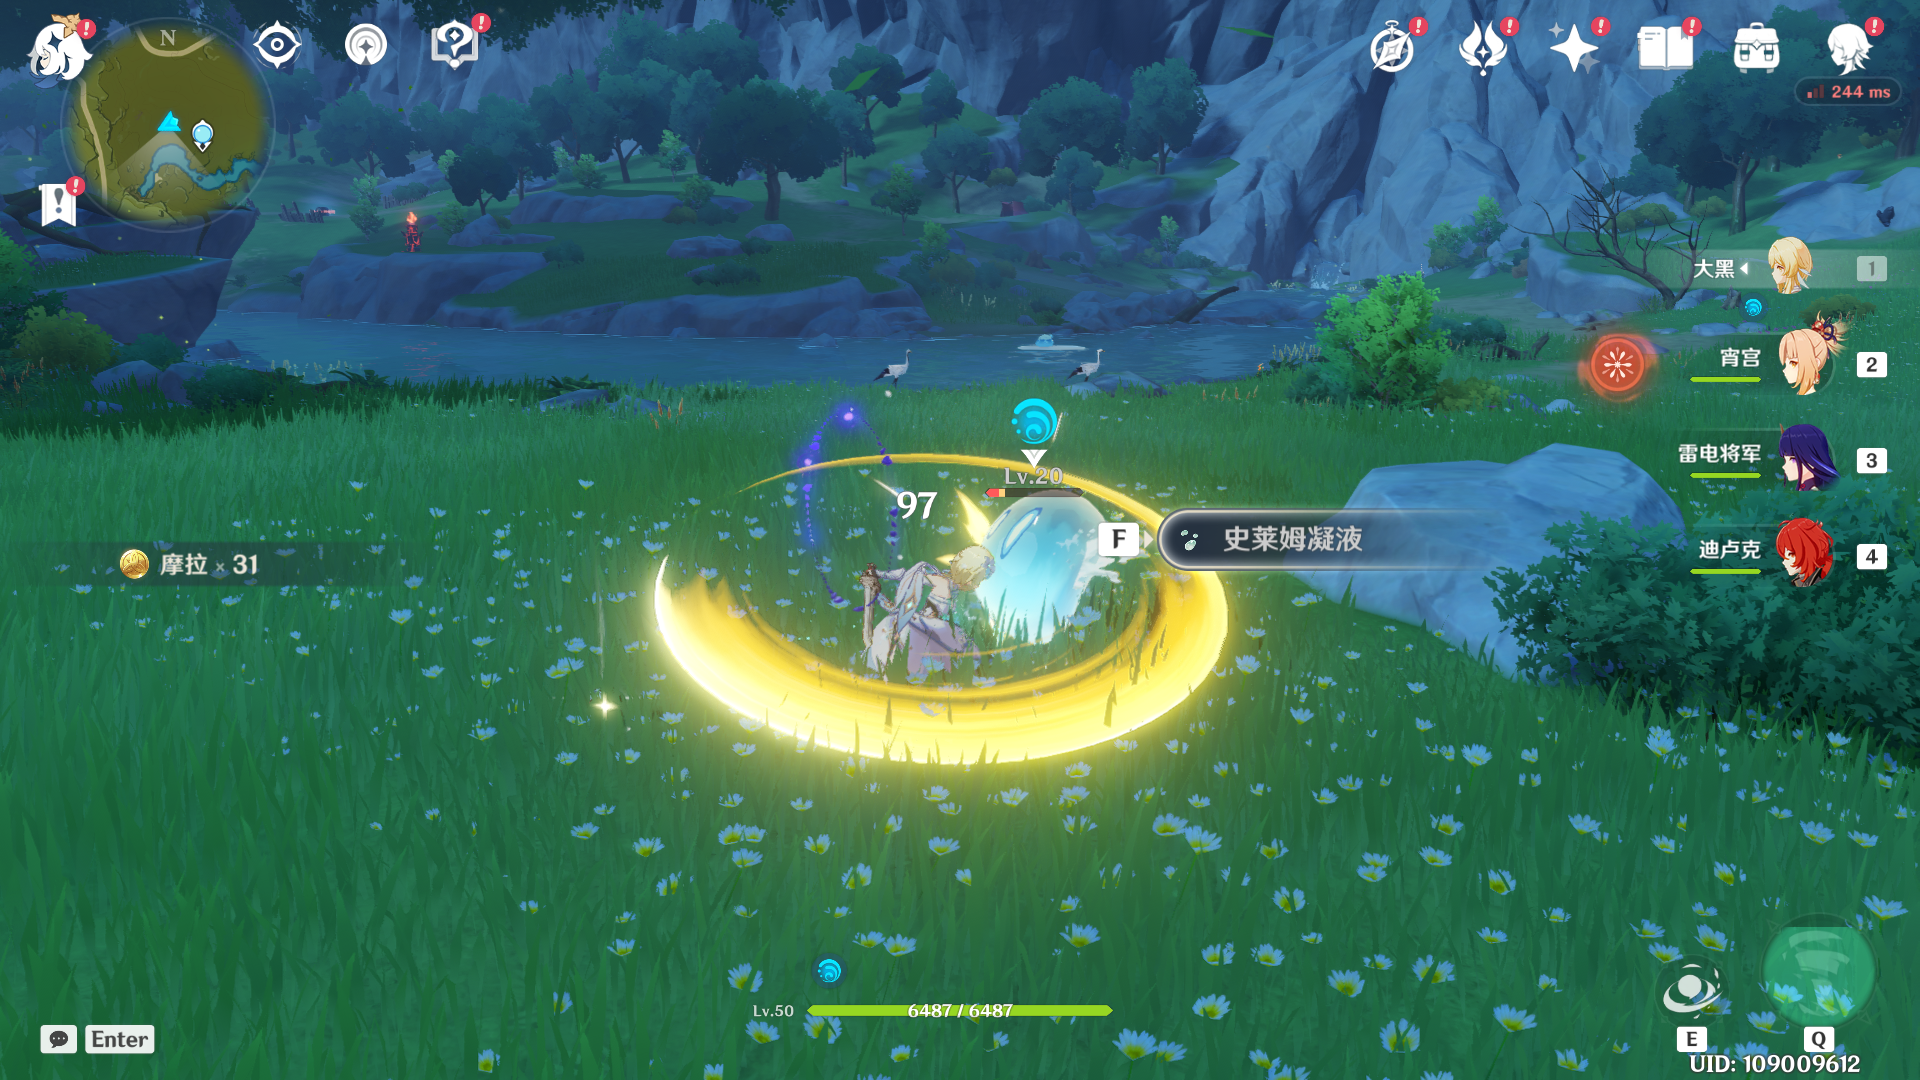character: (829, 535, 1007, 720)
slime: (947, 469, 1154, 674)
